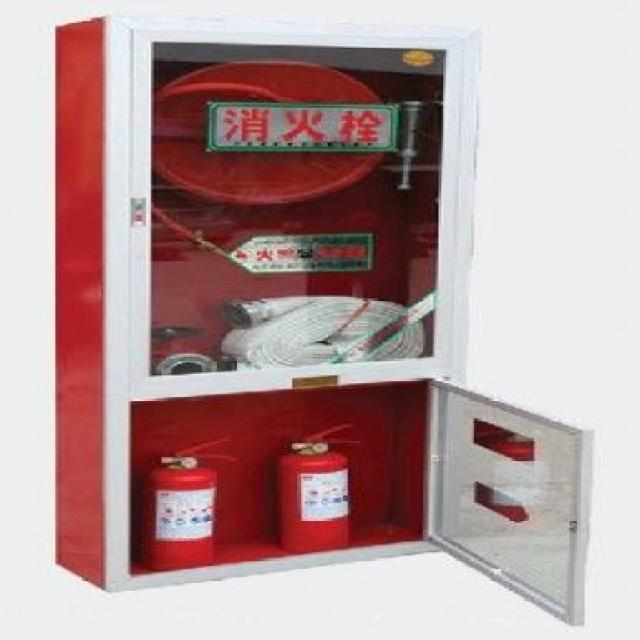firehydrant: (48, 14, 488, 596), (429, 362, 640, 632)
